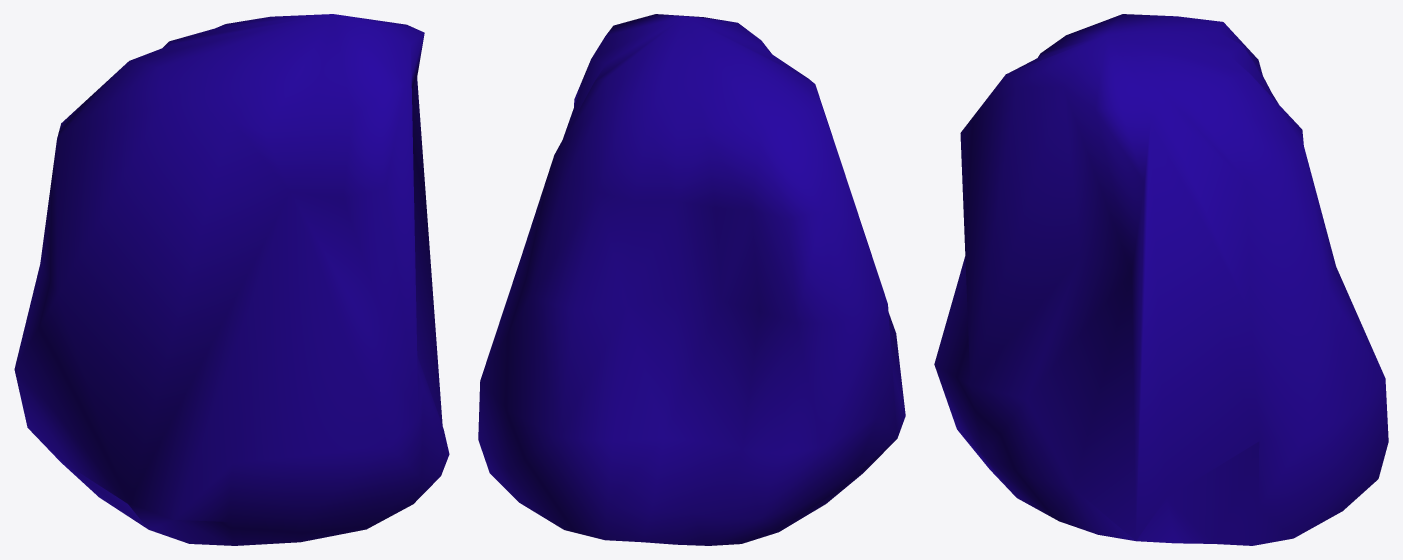
The model's file is CG_Model_TownExt_Rock1_Mar24_ChrisMcknight.FBX.
3 views of the same model, side by side, from view 1: azimuth 30°, elevation 25°; view 2: azimuth 150°, elevation 25°; view 3: azimuth 270°, elevation 25° (orthographic). The views are drawn at different scales.
Visible parts, largest first — view 1: Sphere004; view 2: Sphere004; view 3: Sphere004.
Boxes of the visible parts, x1,y1,x2,y2 form: Sphere004: (14,14,449,545); Sphere004: (478,14,905,545); Sphere004: (934,14,1388,545).
Size of the model in its own units: 20.88 by 24.03 by 22.13.
